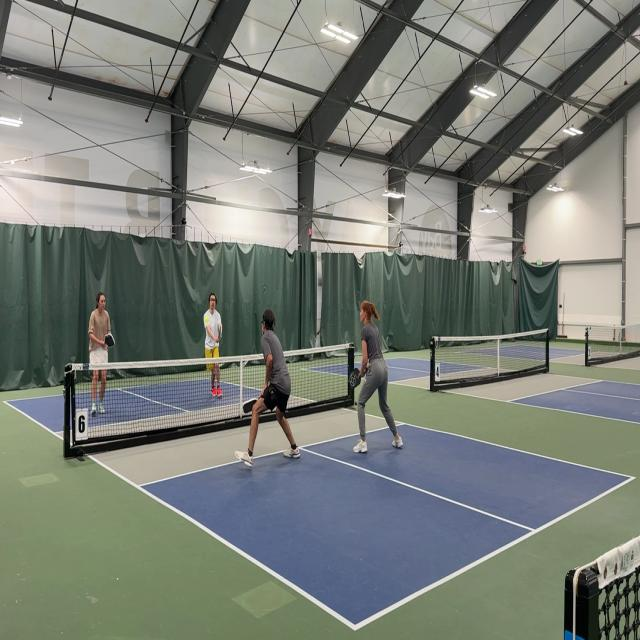ball: (205, 315, 209, 324)
